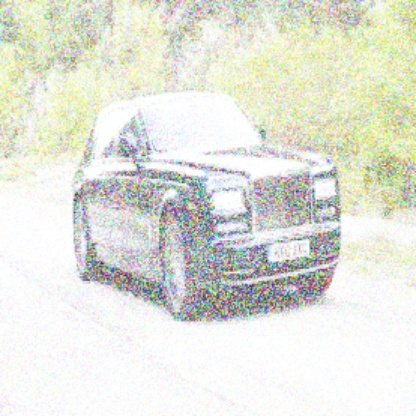Vehicle: (66, 83, 351, 326)
